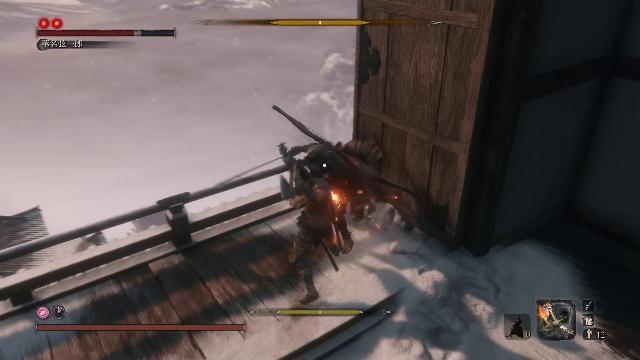sk: (280, 152, 345, 305)
